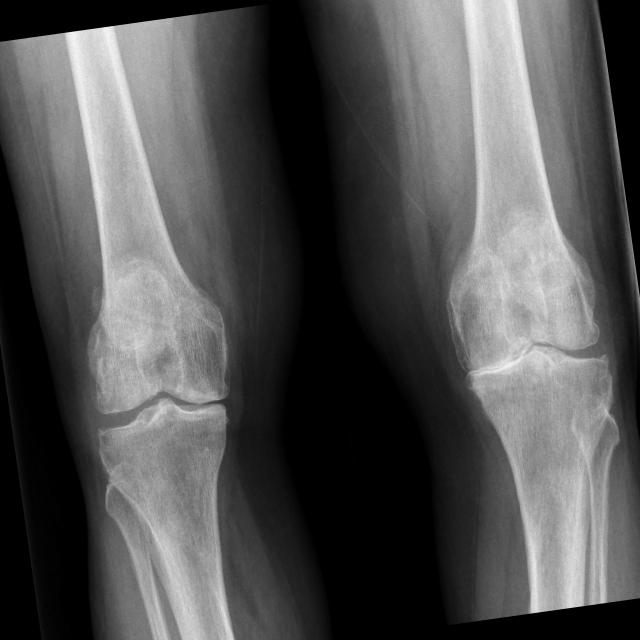Knee: (446, 280, 622, 438), (83, 328, 250, 487)
